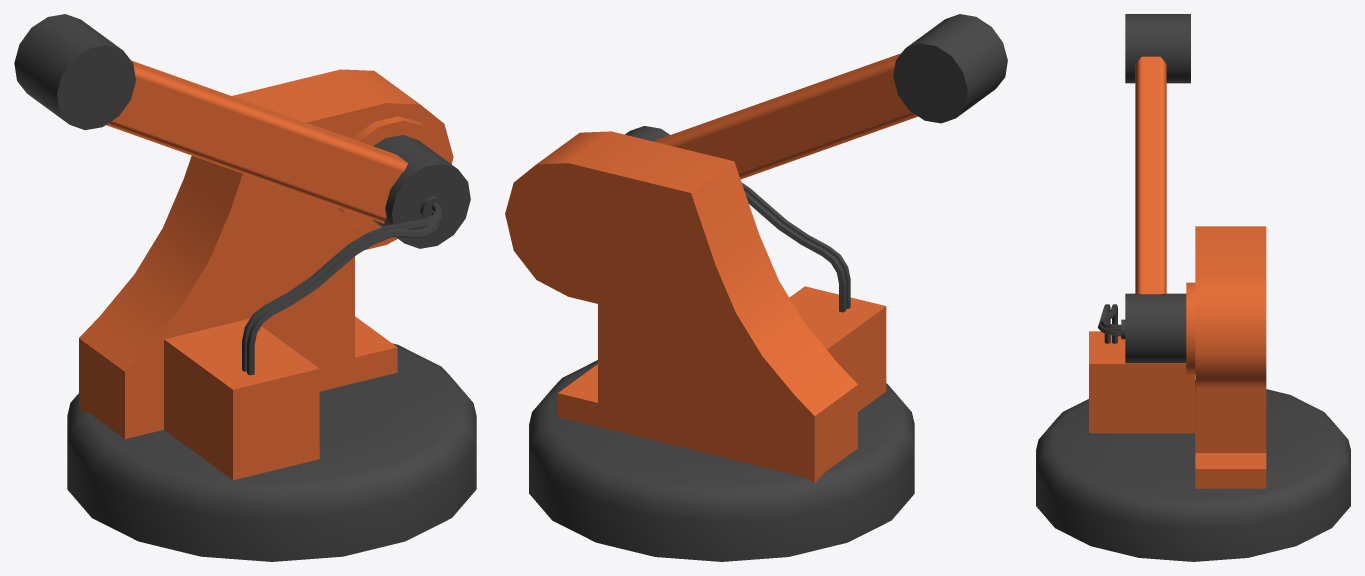
File: RobotArm.fbx
3 renders of one model, left to right at view 1: azimuth 30°, elevation 25°; view 2: azimuth 150°, elevation 25°; view 3: azimuth 270°, elevation 25°, orthographic. The views are drawn at different scales.
Visible parts, largest first — view 1: MainPart_01, Part_02; view 2: MainPart_01, Part_02; view 3: MainPart_01, Part_02.
Part boxes in pixels (x1,y1,x2,y2): MainPart_01: (67, 69, 476, 561); Part_02: (14, 14, 470, 248); MainPart_01: (505, 131, 914, 561); Part_02: (625, 14, 1007, 179); MainPart_01: (1036, 226, 1350, 561); Part_02: (1121, 14, 1190, 363).
Size of the model in its own units: 61.06 by 76.2 by 48.96.
